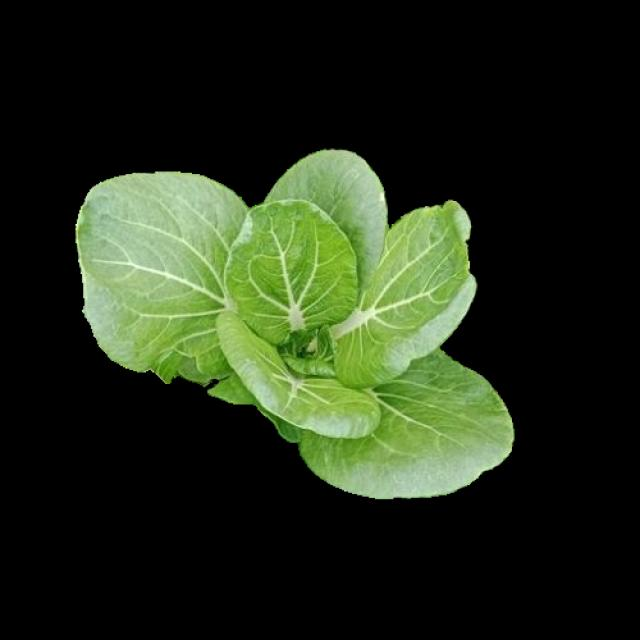healthy: (73, 146, 509, 495)
mature: (76, 148, 512, 498)
